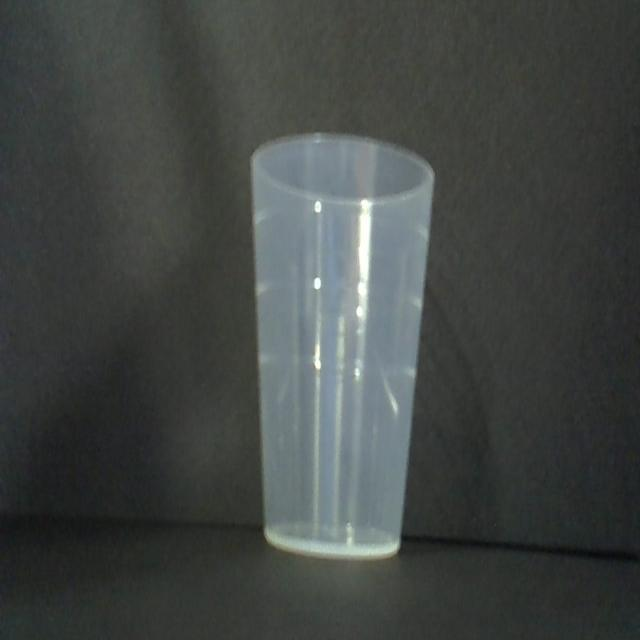cup: (245, 128, 438, 565)
